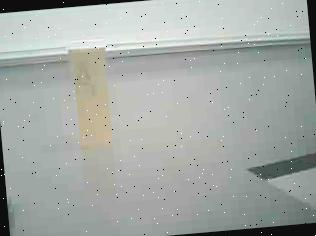Bottle A: (60, 32, 121, 160)
